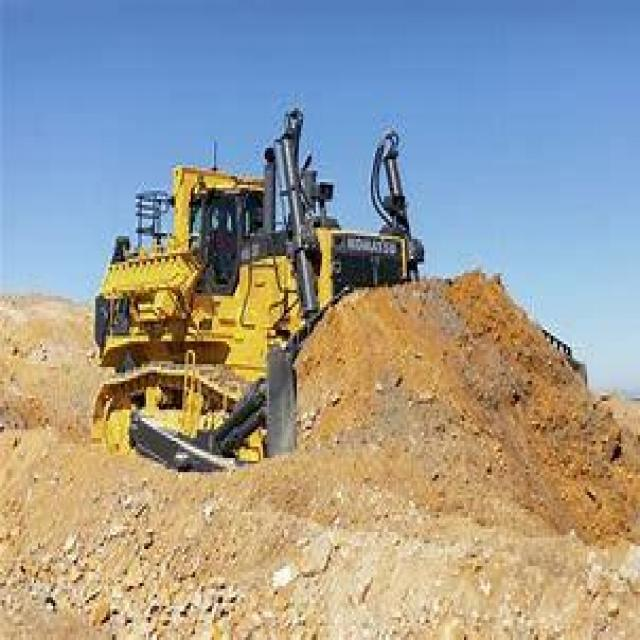Bulldozer: (78, 102, 443, 492)
